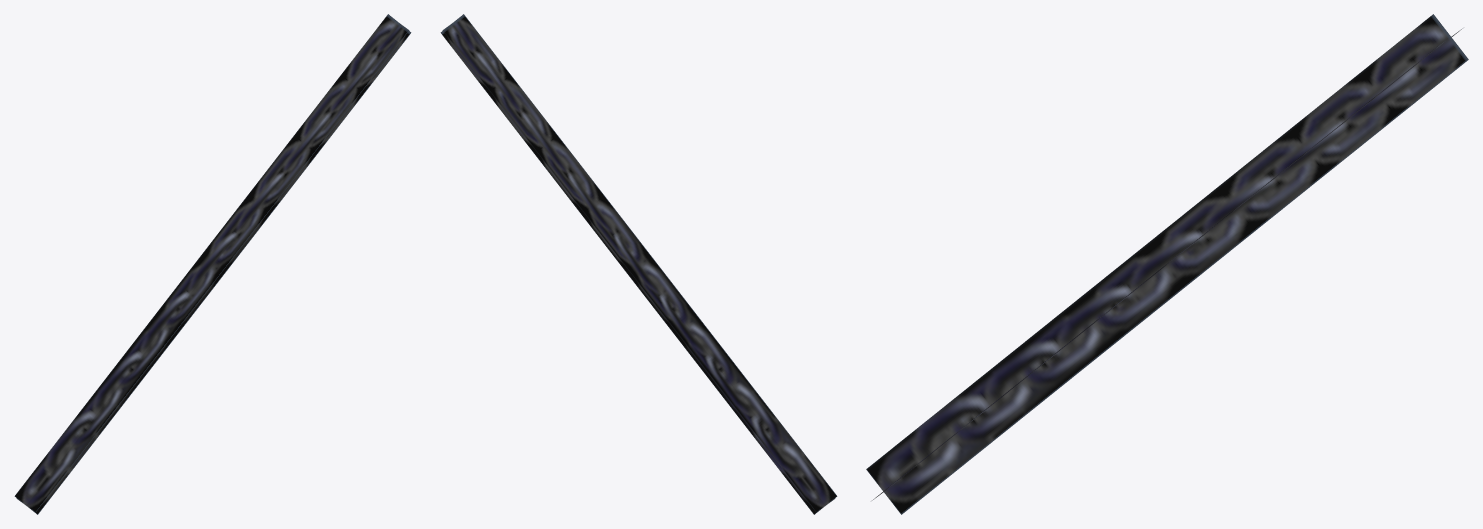
3 views of the same model, side by side, from view 1: azimuth 30°, elevation 25°; view 2: azimuth 150°, elevation 25°; view 3: azimuth 330°, elevation 25° (orthographic). The views are drawn at different scales.
Parts seen in each view (by area): view 1: Plane03; view 2: Plane03; view 3: Plane03.
Boxes of the visible parts, x1,y1,x2,y2 form: Plane03: (14,14,411,514); Plane03: (440,14,837,514); Plane03: (866,14,1468,514).
Bounding box in the file's own units: 290 × 290 × 24.04.
1 material, 1 textured.
